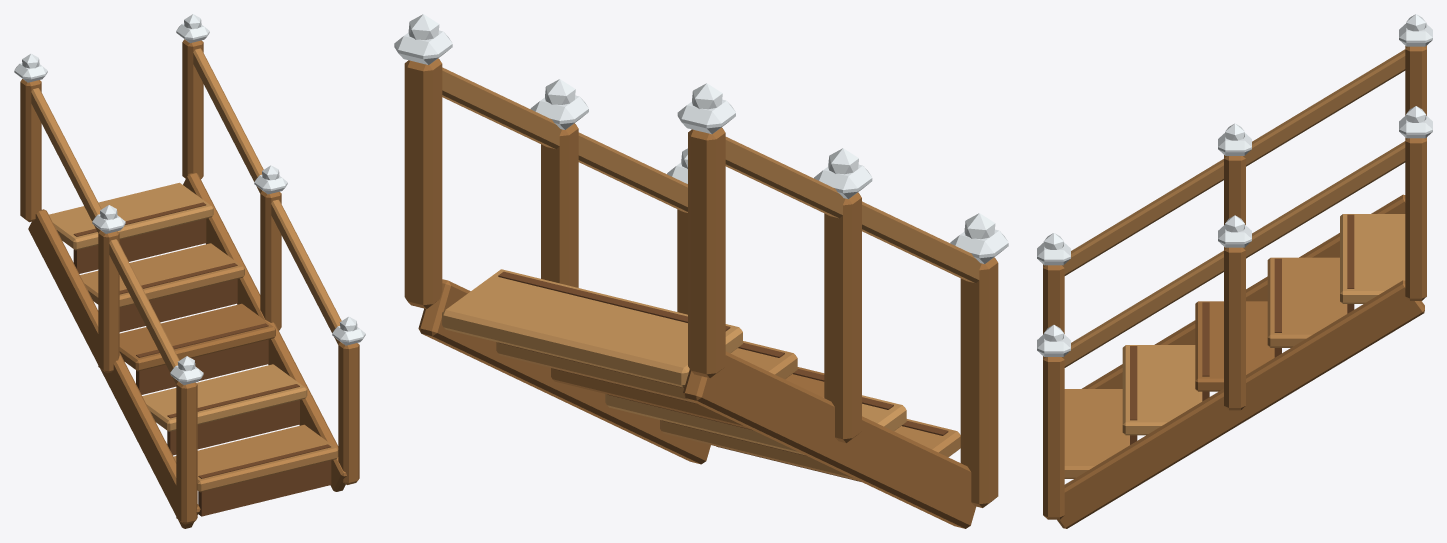
Rendered from mod_stairs_1m.glb.
3 renders of one model, left to right at view 1: azimuth 30°, elevation 25°; view 2: azimuth 150°, elevation 25°; view 3: azimuth 270°, elevation 25°, orthographic. The views are drawn at different scales.
Visible parts, largest first — view 1: mod_stairs_1m; view 2: mod_stairs_1m; view 3: mod_stairs_1m.
Part boxes in pixels (x1,y1,x2,y2): mod_stairs_1m: (14,14,365,528); mod_stairs_1m: (394,14,1008,528); mod_stairs_1m: (1037,14,1432,528).
Size of the model in its own units: 1.04 by 1.94 by 1.64.
